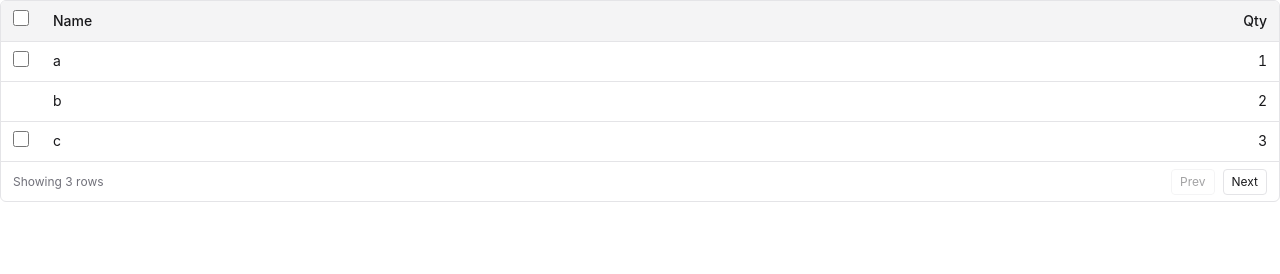
Test case: selection and the bulk bar › a page move clears the selection
This screenshot has width=1280, height=274.
Click the checkbox named "Select a".
click(21, 58)  # box [13,50,29,66]
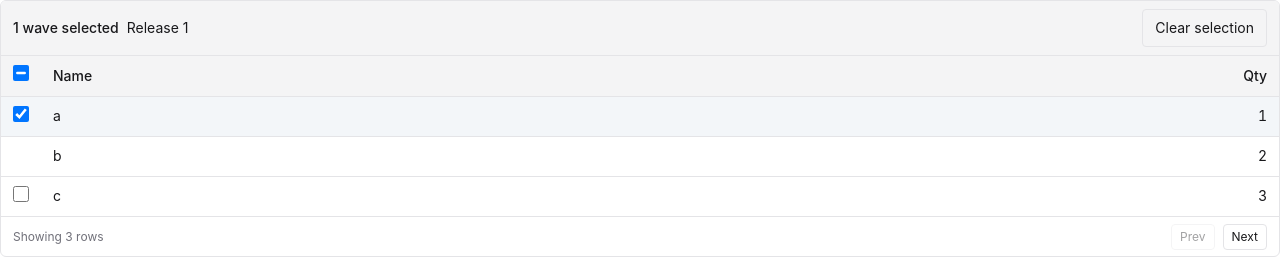
Now the element with test id "bulk-action-bar" is shown, box [1,1,1279,56]
Click the button "Next".
click(1245, 236)  # box [1222,224,1267,250]
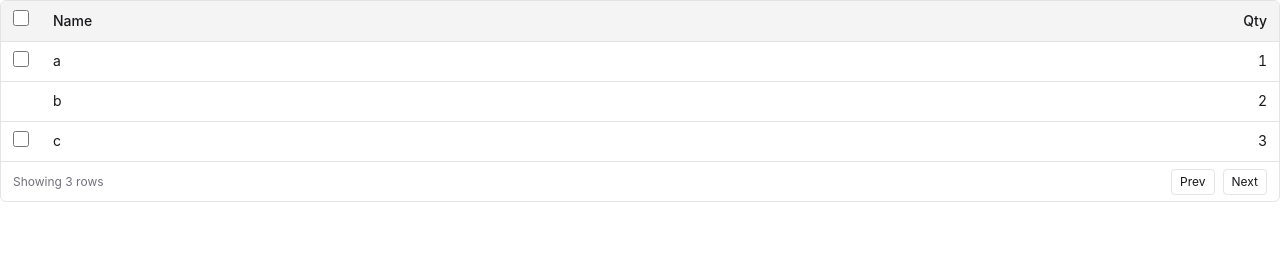
Now the element with test id "bulk-action-bar" is gone
